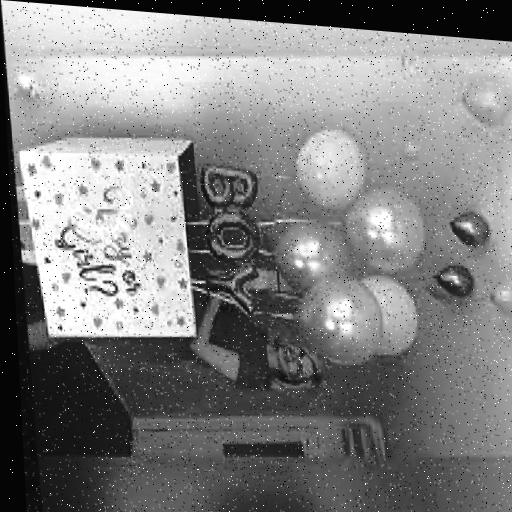balloon: (281, 281, 383, 377), (344, 188, 429, 279), (355, 273, 425, 375), (268, 221, 347, 306), (293, 134, 366, 221), (461, 83, 512, 142), (444, 216, 489, 261), (431, 268, 474, 308), (483, 280, 512, 332)
